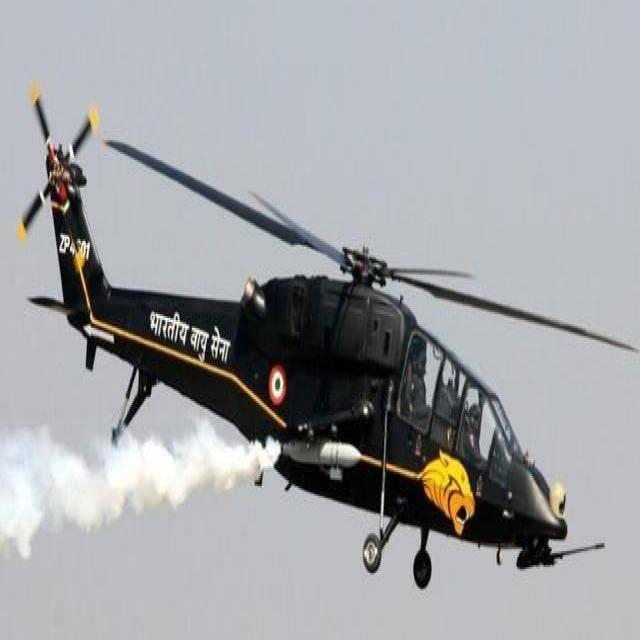MIL_HELO: (10, 73, 640, 612)
